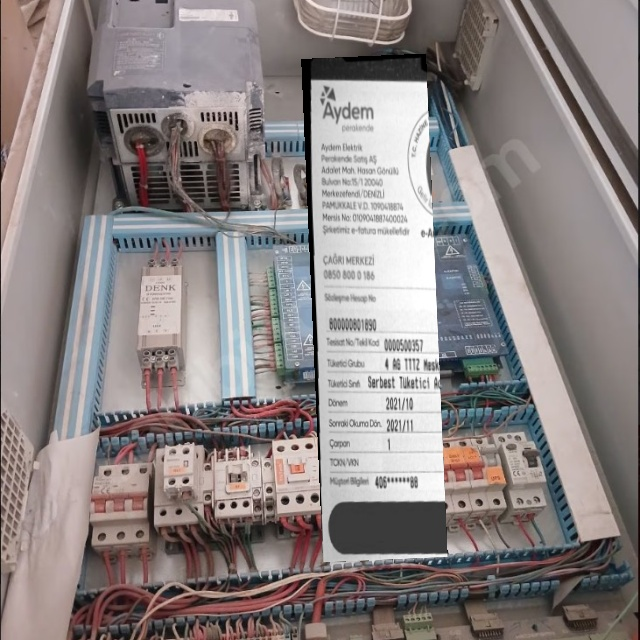electricity-bill: (301, 54, 447, 562)
